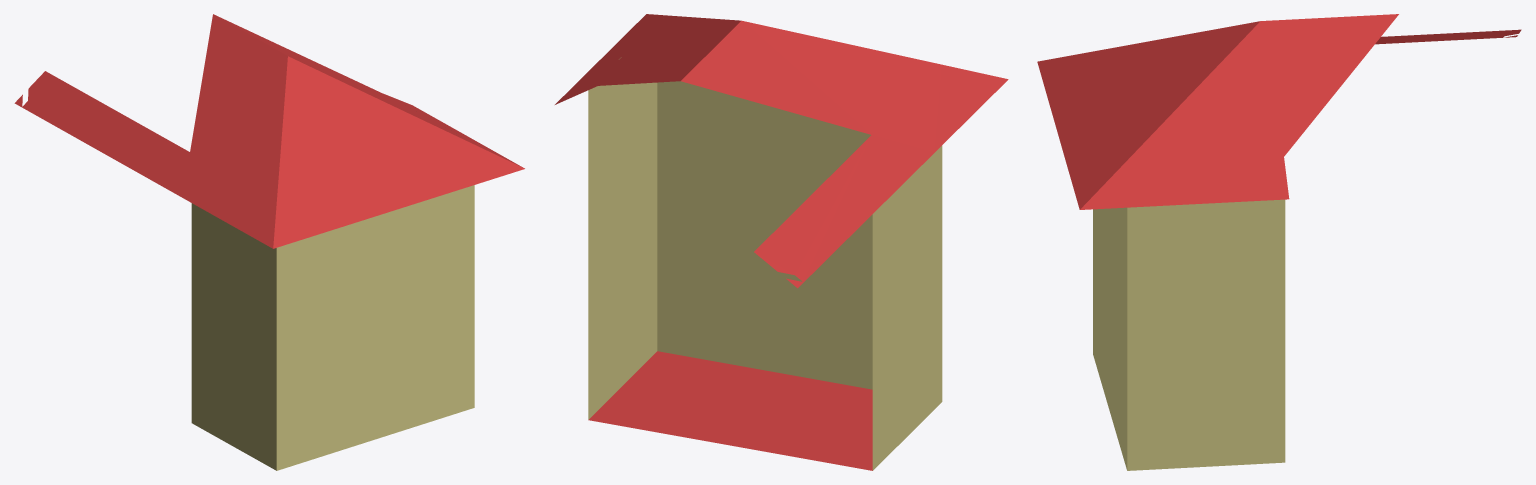
3 renders of one model, left to right at view 1: azimuth 30°, elevation 25°; view 2: azimuth 150°, elevation 25°; view 3: azimuth 270°, elevation 25°, orthographic. The views are drawn at different scales.
Bounding box in the file's own units: 7.96 × 9.42 × 8.16.
